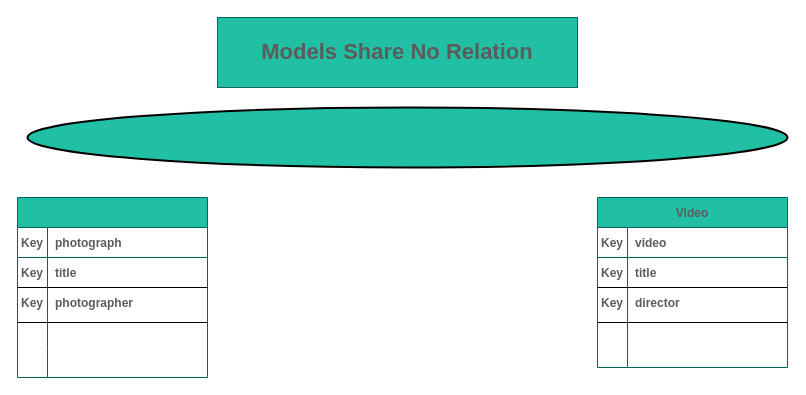
The diagram is 806 pixels wide and 395 high, and some of its shapes have lost their labels. Each missing label, with the box of its shape:
Photographs: (16, 196, 208, 378)
Retrospective: (26, 106, 788, 168)
